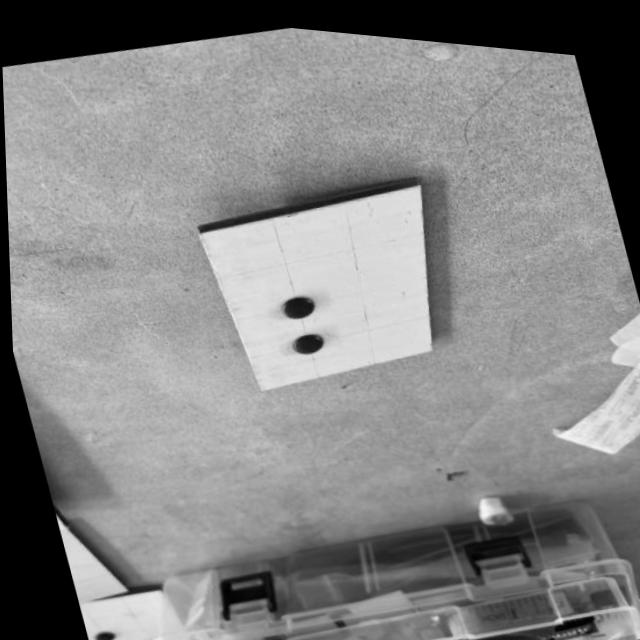braiile: (197, 178, 431, 385)
